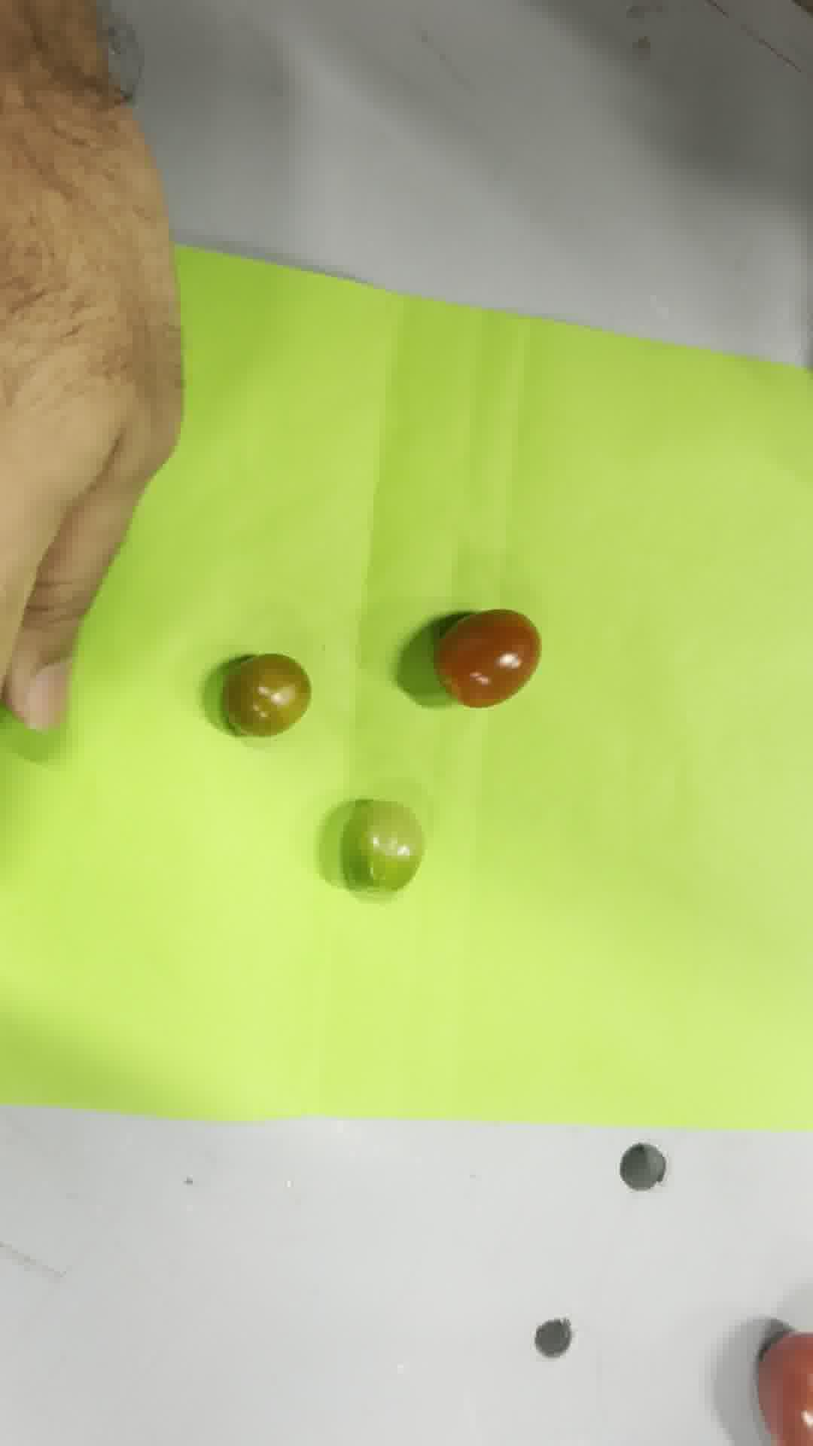green_cherry_tomato: (330, 798, 425, 898)
red_cherry_tomato: (434, 609, 540, 706)
yellow_cherry_tomato: (221, 654, 311, 737)
